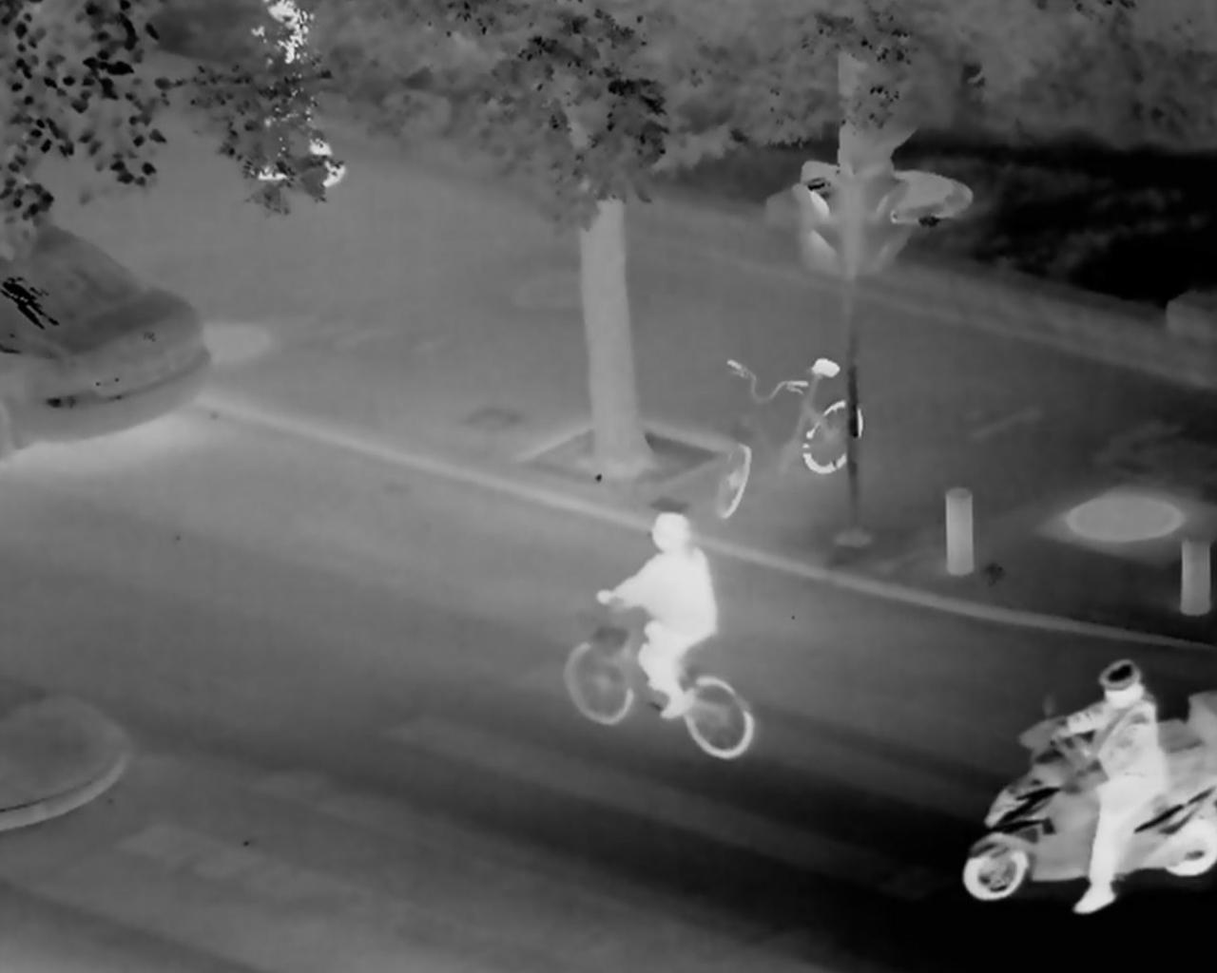person: (1046, 661, 1165, 914), (594, 512, 716, 719)
